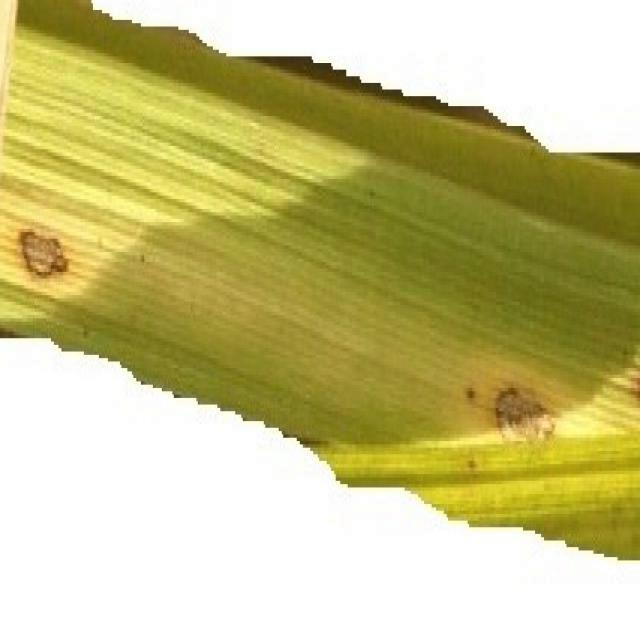Brownspot: (495, 386, 554, 439), (19, 230, 67, 276), (631, 373, 639, 399), (465, 386, 475, 401), (467, 458, 476, 471)
